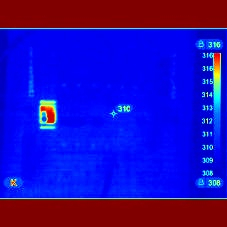Less: (38, 101, 48, 122)
